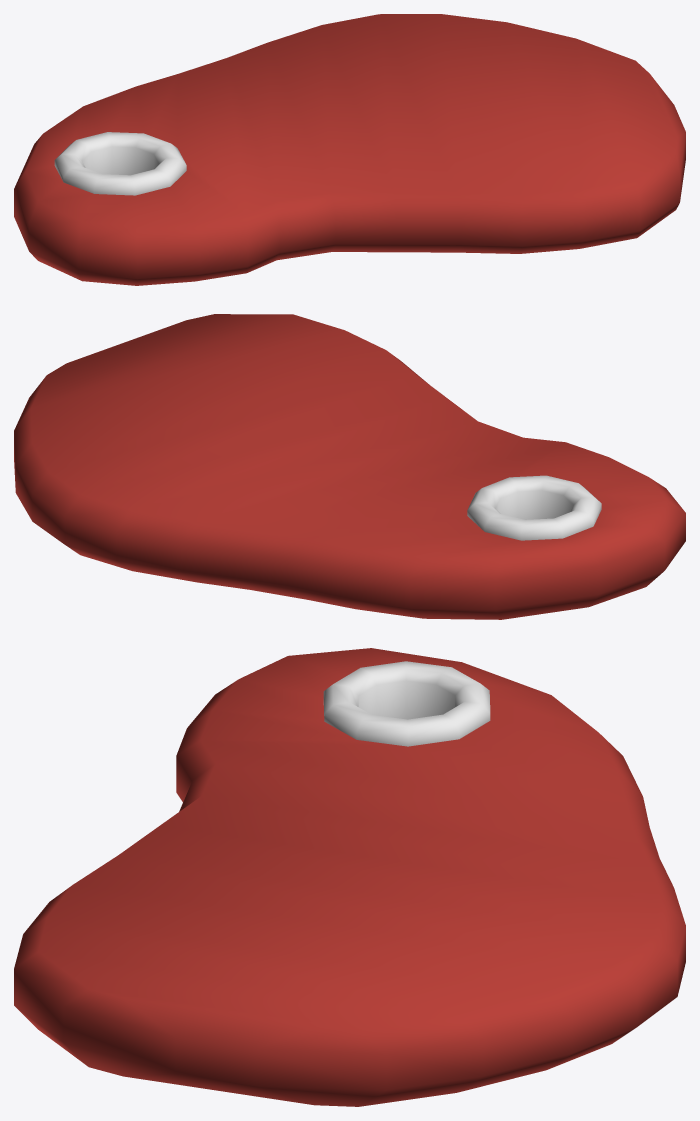
The model's file is Chuleton.fbx.
3 views of the same model, one above another, from view 1: azimuth 30°, elevation 25°; view 2: azimuth 150°, elevation 25°; view 3: azimuth 270°, elevation 25° (orthographic). The views are drawn at different scales.
Parts seen in each view (by area): view 1: CHULETON; view 2: CHULETON; view 3: CHULETON.
Boxes of the visible parts, x1,y1,x2,y2 form: CHULETON: [14, 14, 685, 285]; CHULETON: [14, 314, 685, 619]; CHULETON: [14, 648, 685, 1106].
Size of the model in its own units: 31.81 by 4.13 by 22.95.
